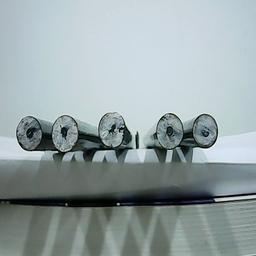pen: (15, 115, 45, 152), (192, 111, 222, 148), (155, 112, 185, 149), (97, 110, 127, 147), (50, 114, 80, 151)
